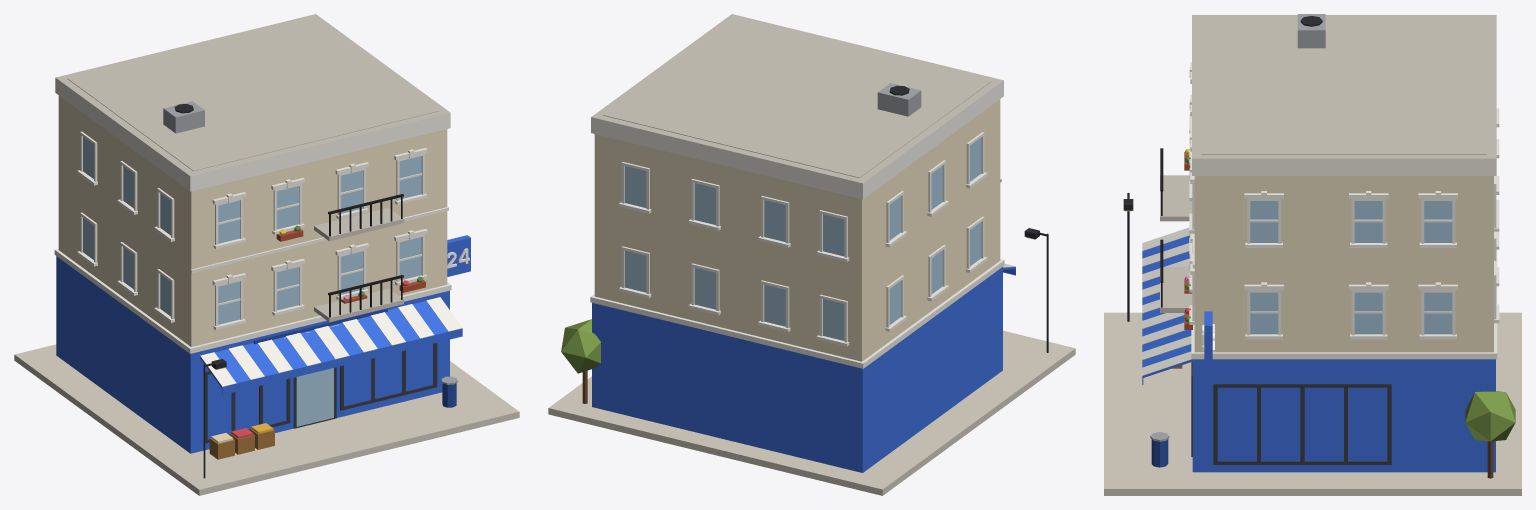
Rendered from Market_market_24_1_2_Hafif.fbx.
The picture shows the model from 3 angles, left to right: view 1: azimuth 30°, elevation 25°; view 2: azimuth 150°, elevation 25°; view 3: azimuth 270°, elevation 25°; orthographic projection. The views are drawn at different scales.
Parts seen in each view (by area): view 1: Market_market_24_1_2_Hafif; view 2: Market_market_24_1_2_Hafif; view 3: Market_market_24_1_2_Hafif.
Boxes of the visible parts, x1,y1,x2,y2 form: Market_market_24_1_2_Hafif: (14,14,519,495); Market_market_24_1_2_Hafif: (548,14,1075,495); Market_market_24_1_2_Hafif: (1104,14,1521,495).
Bounding box in the file's own units: 12 × 10.82 × 12.
